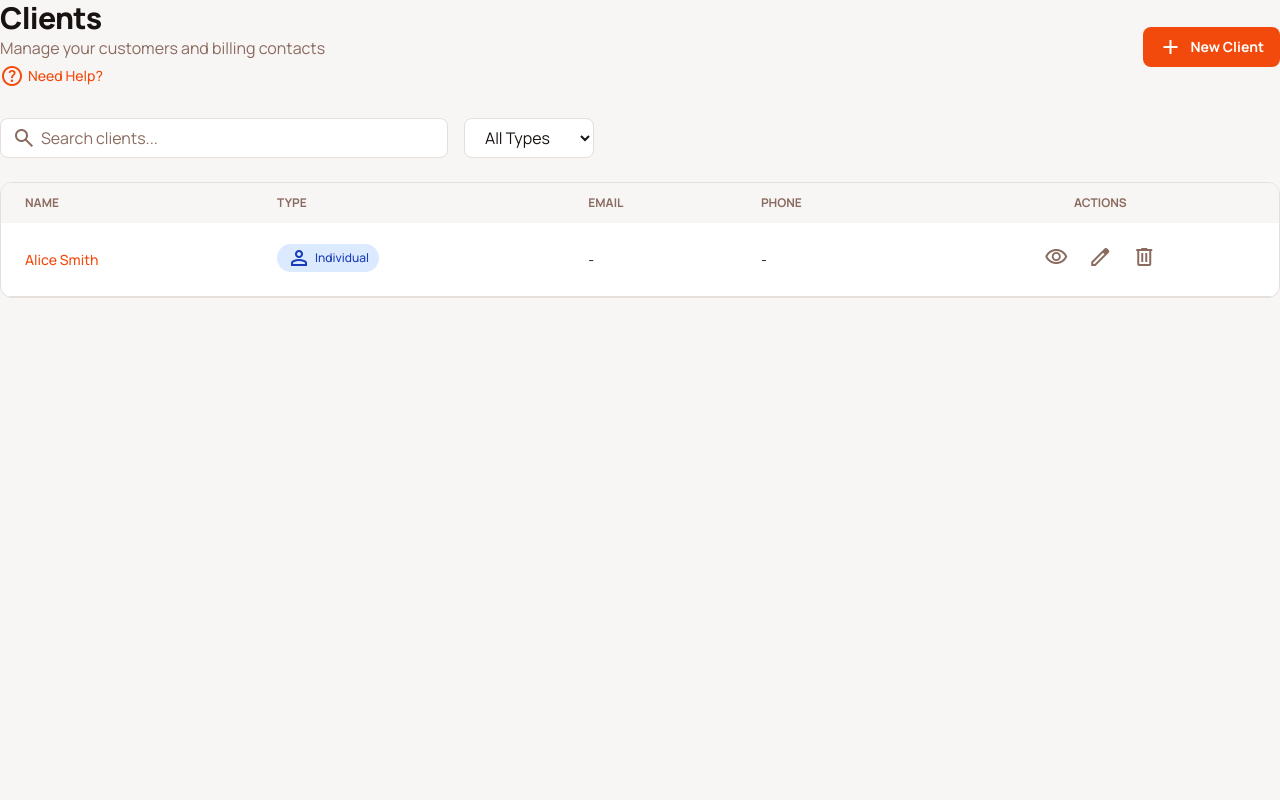
Test case: ClientListPage delete flow (SOUP-1929) › keeps the modal open and shows an error message when the delete fails
Click the button with test id "client-delete-c1": coordinates (1144, 260) [1126, 239, 1162, 280]
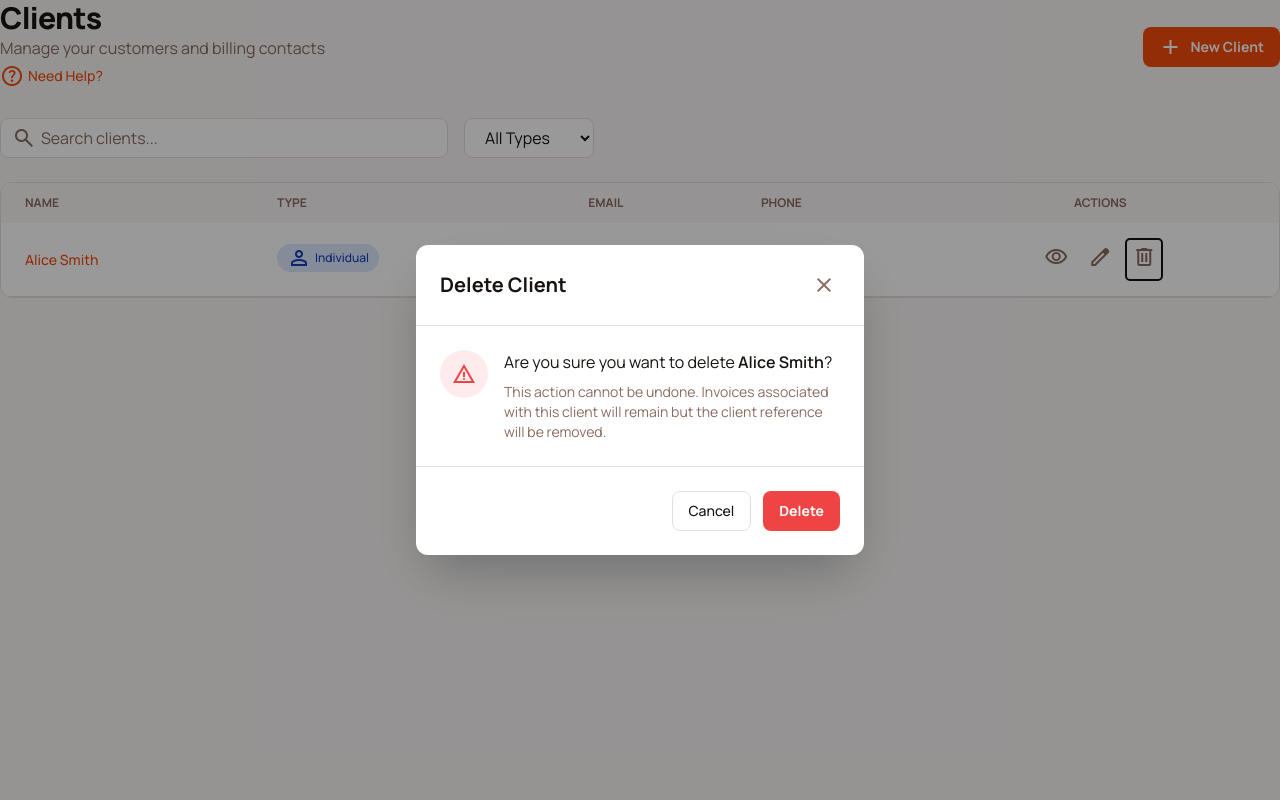
Click the button with test id "delete-confirm-button": coordinates (802, 511) [763, 491, 840, 531]
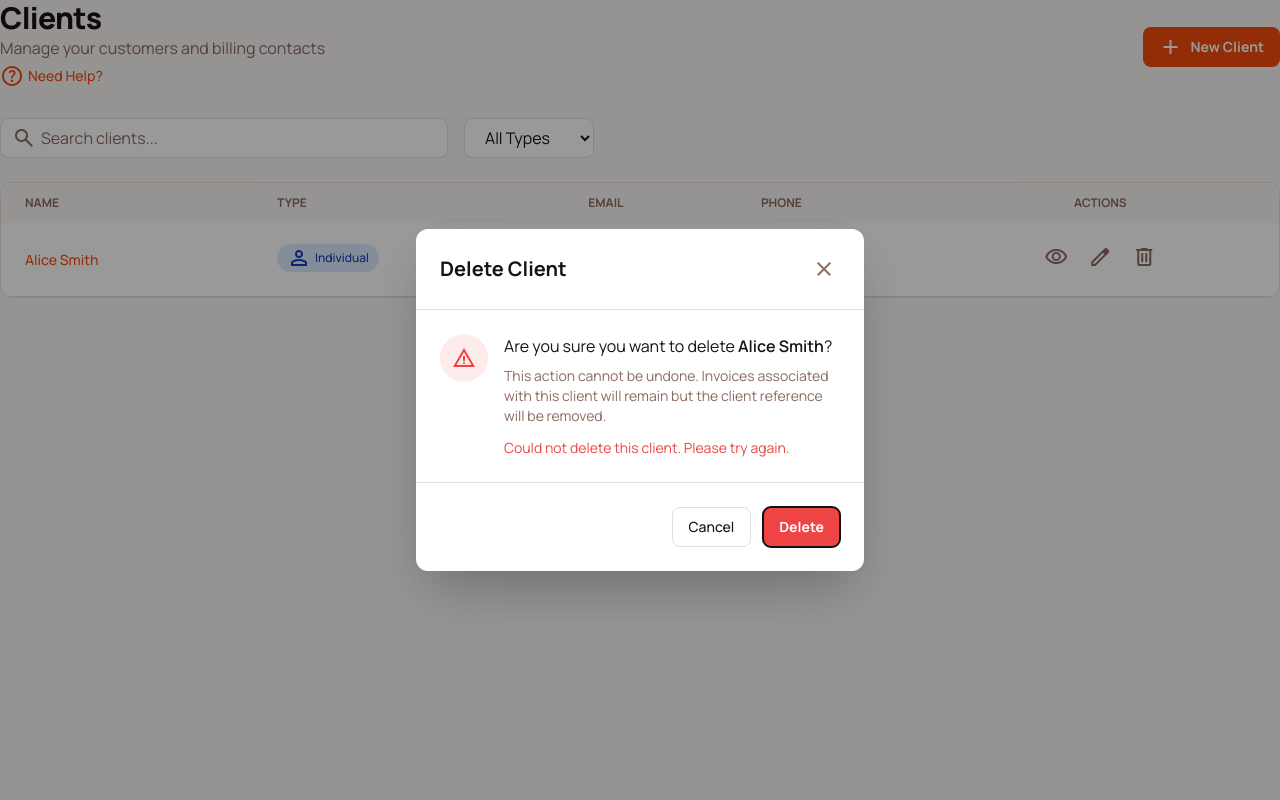
Expected: the element with test id "delete-confirmation-modal" is shown
Expected: the message "Could not delete this client. Please try again." is shown, [504, 438, 790, 457]
